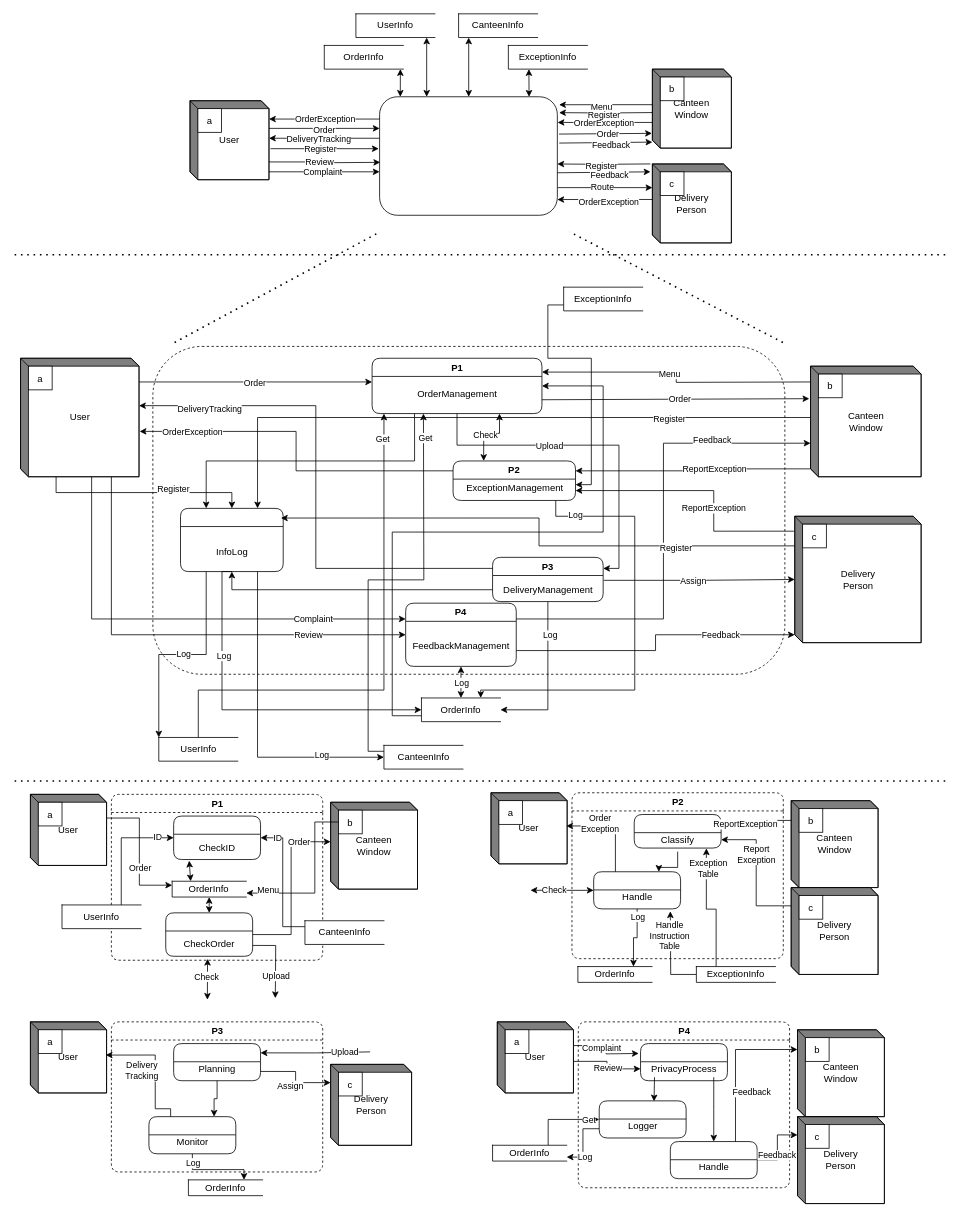
The diagram is 961 pixels wide and 1217 high, and some of its shapes have lost their labels. The shapes that lost their labels are listed below. From the top down, each one's box as (x1, y1, x2, y2) in pixels, then its label:
(379, 96, 557, 215): TakeawayDelivery System
(180, 508, 283, 572): P5
(173, 815, 261, 860): P1.1
(633, 814, 721, 848): P2.1
(593, 871, 681, 909): P2.2
(165, 912, 253, 956): P1.2
(173, 1043, 261, 1081): P3.1
(640, 1043, 727, 1081): P4.1
(148, 1116, 236, 1154): P3.2
(598, 1100, 686, 1138): P4.2
(670, 1141, 757, 1179): P4.3
